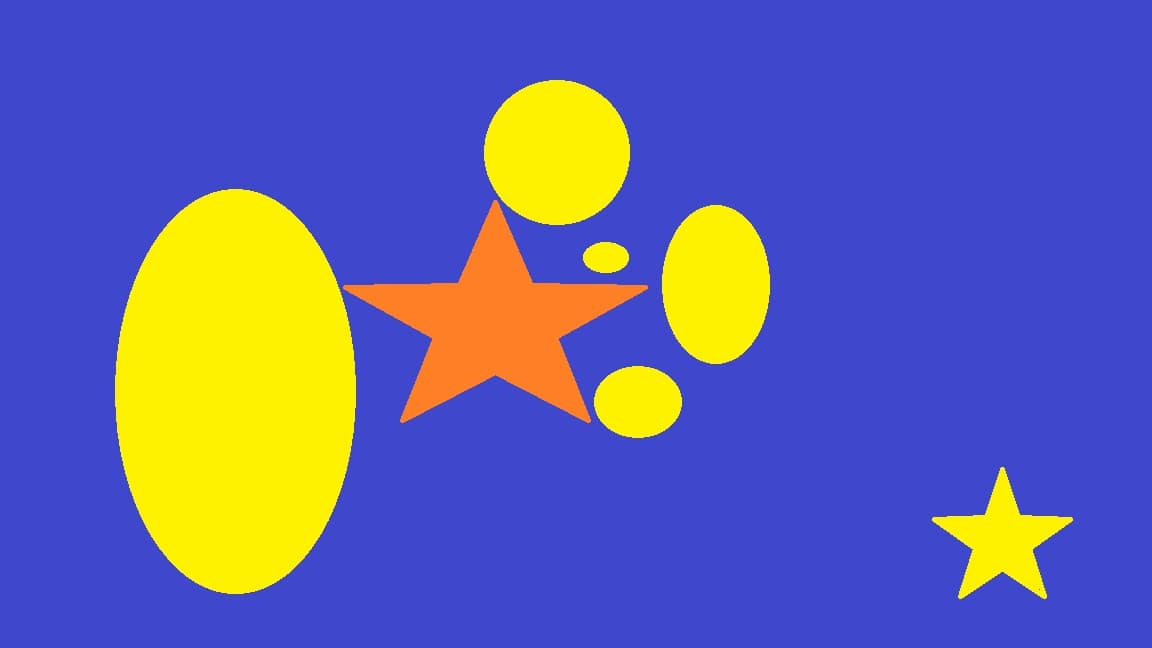Oval: (114, 187, 359, 596), (478, 78, 632, 222), (658, 199, 772, 363), (590, 365, 683, 439), (579, 240, 632, 274)
Star: (342, 198, 636, 423), (935, 464, 1076, 600)
